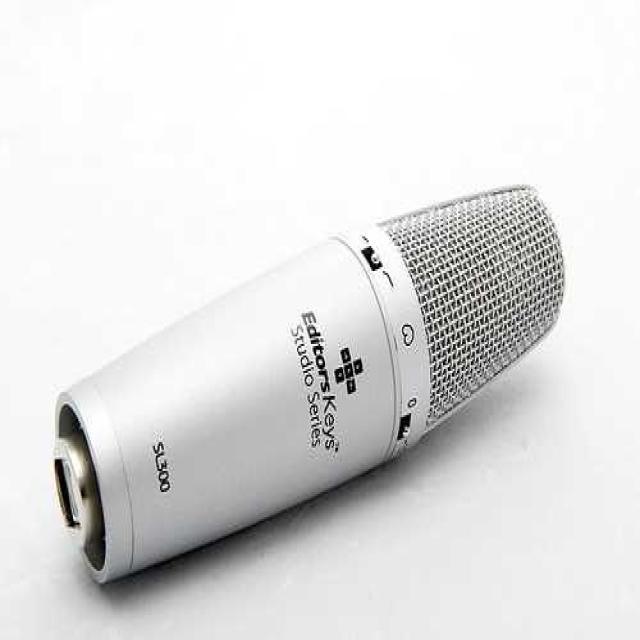microphone: (62, 182, 561, 582)
